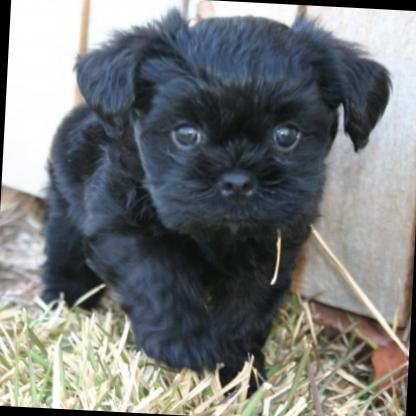affenpinscher: (33, 2, 392, 402)
